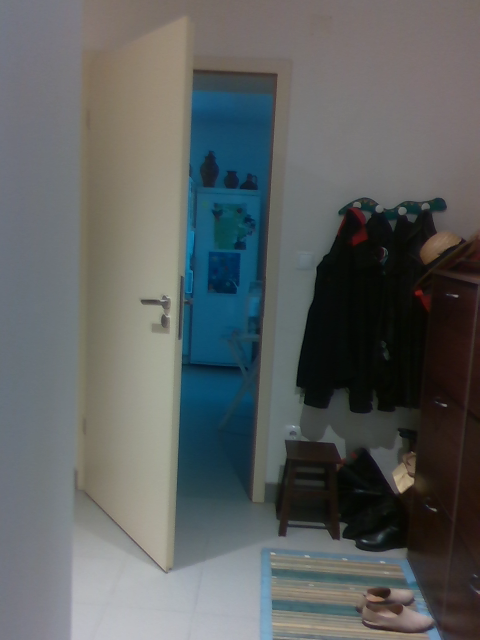semi: (83, 23, 295, 576)
